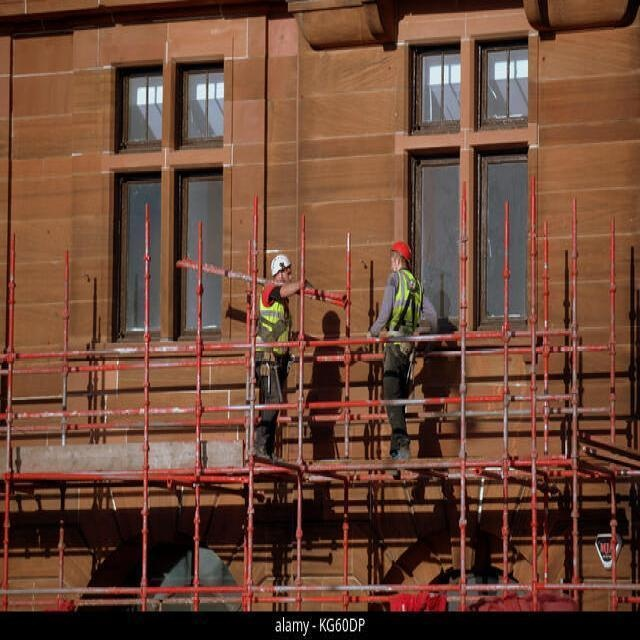Arnes_seguridad: (386, 267, 422, 340), (257, 295, 291, 363)
